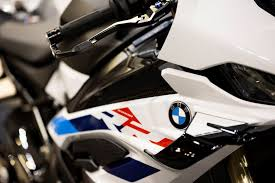motorcycle: (1, 1, 275, 183)
